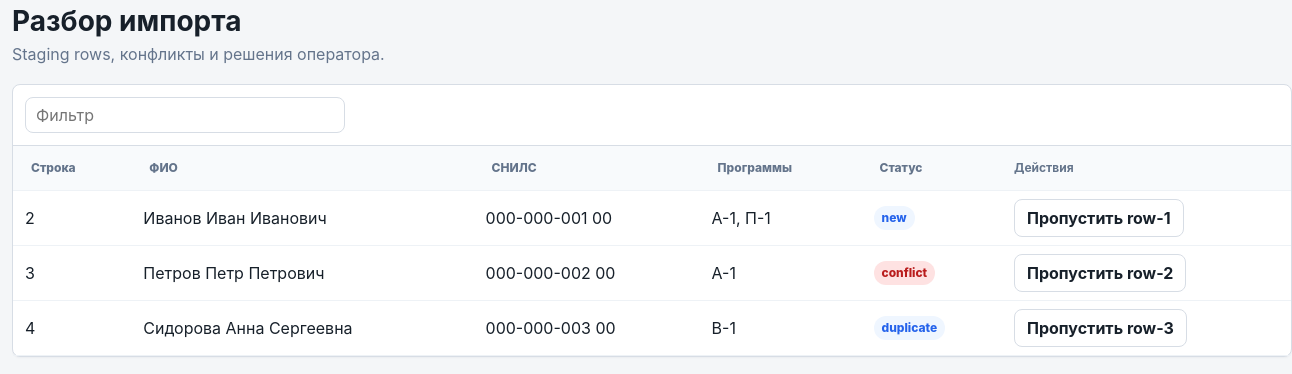
Scenario: operations pages › resolves import rows
Expected: the text "Петров Петр Петрович" is shown, [131,245,474,300]
Expected: the text "conflict" is shown, [874,260,935,284]
Click the button "Пропустить row-2": (1100, 272) [1014,254,1186,292]
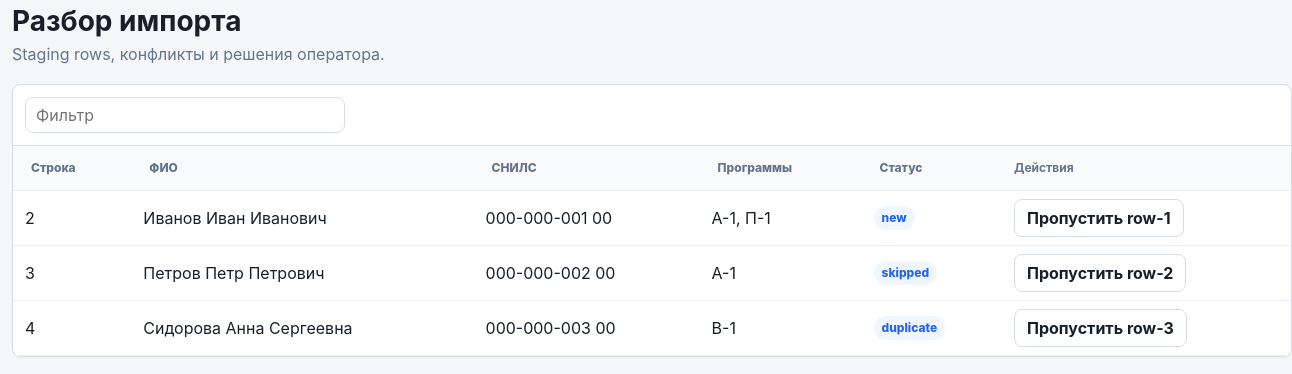
Expected: the text "skipped" is shown, [874,260,937,284]
